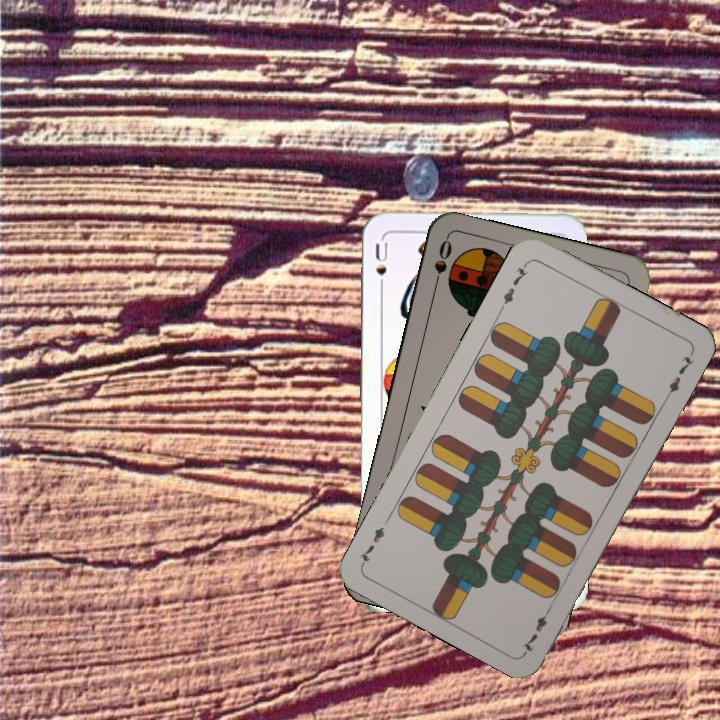E7: (517, 601, 555, 655), (496, 258, 532, 312)
SO: (429, 235, 455, 294)
SU: (371, 238, 390, 296)
